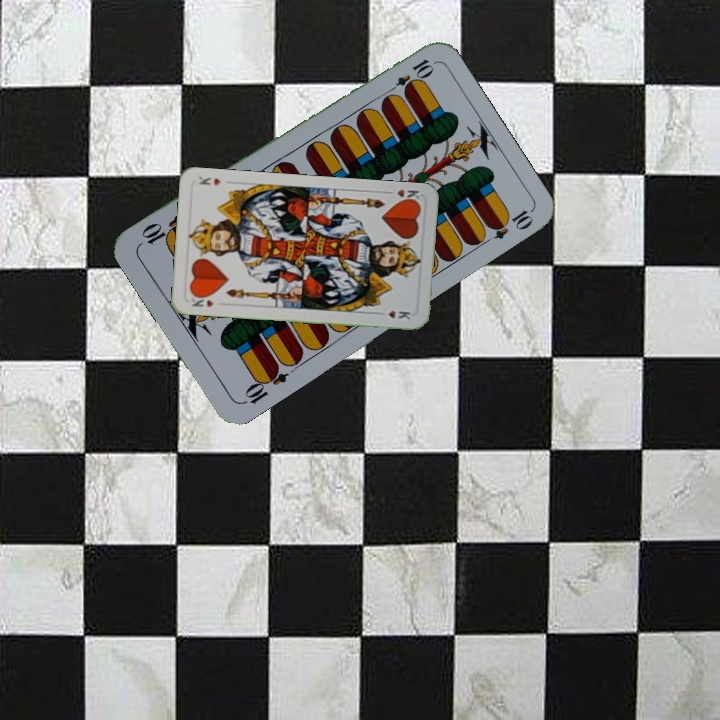E10: (238, 361, 291, 407), (382, 54, 436, 98)
HK: (382, 185, 423, 205), (187, 291, 216, 309)
